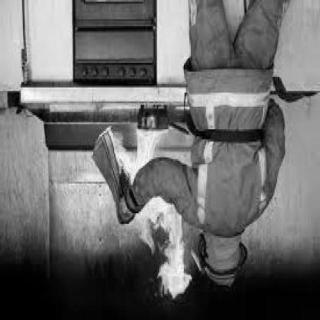other: (188, 7, 204, 33)
